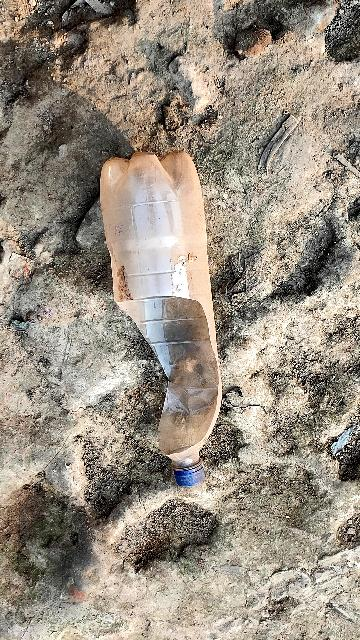bottle: (80, 150, 264, 494)
